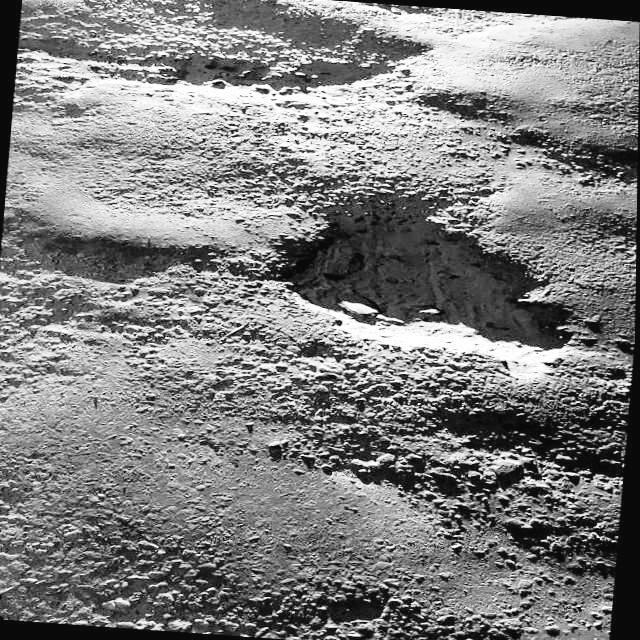Pothole: (306, 184, 562, 367), (45, 213, 205, 293)
